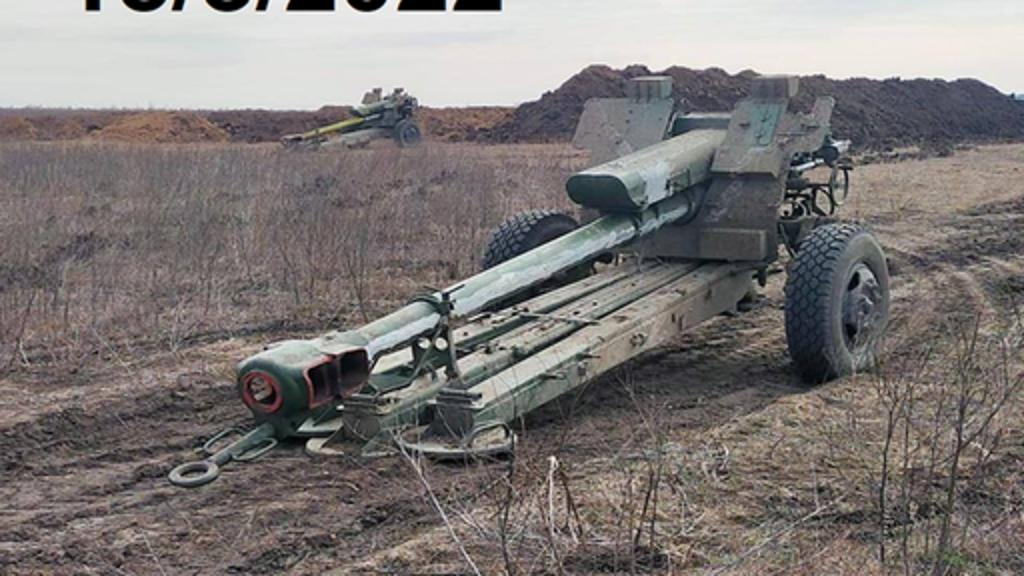ART: (172, 76, 894, 492), (278, 84, 420, 154)
